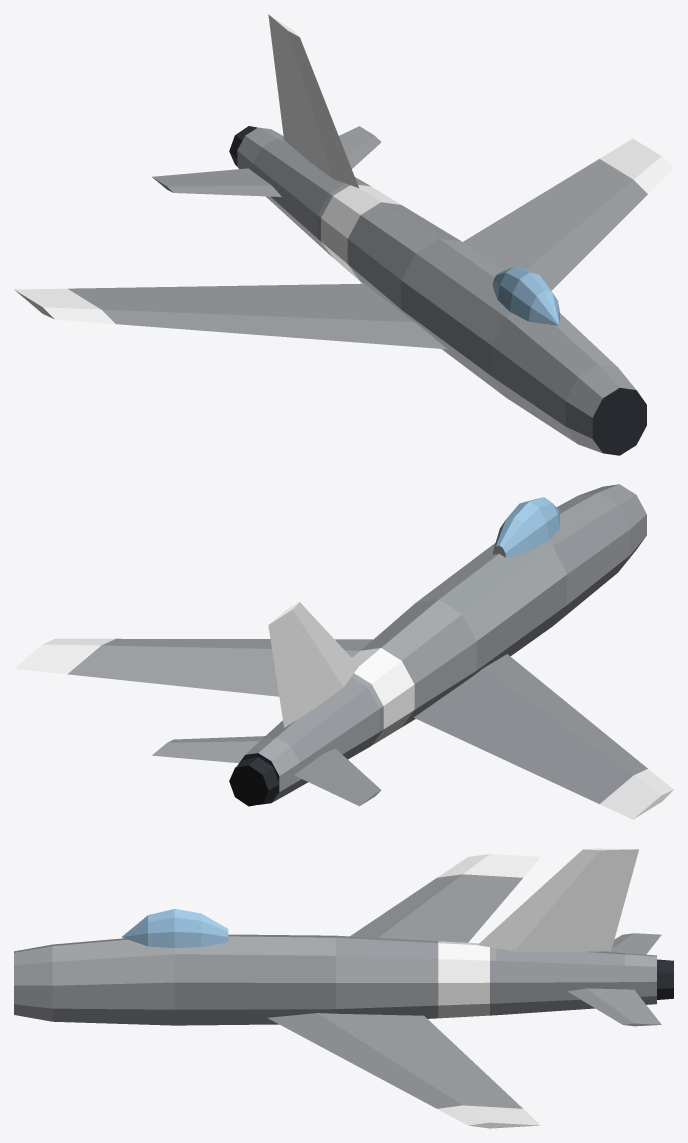
3 views of the same model, one above another, from view 1: azimuth 30°, elevation 25°; view 2: azimuth 150°, elevation 25°; view 3: azimuth 270°, elevation 25° (orthographic). The views are drawn at different scales.
Parts seen in each view (by area): view 1: body; view 2: body; view 3: body.
Boxes of the visible parts, bbox=[...] form: body: bbox=[14, 14, 673, 455]; body: bbox=[14, 484, 673, 819]; body: bbox=[14, 848, 673, 1128].
Size of the model in its own units: 11.31 by 3.43 by 11.74.
